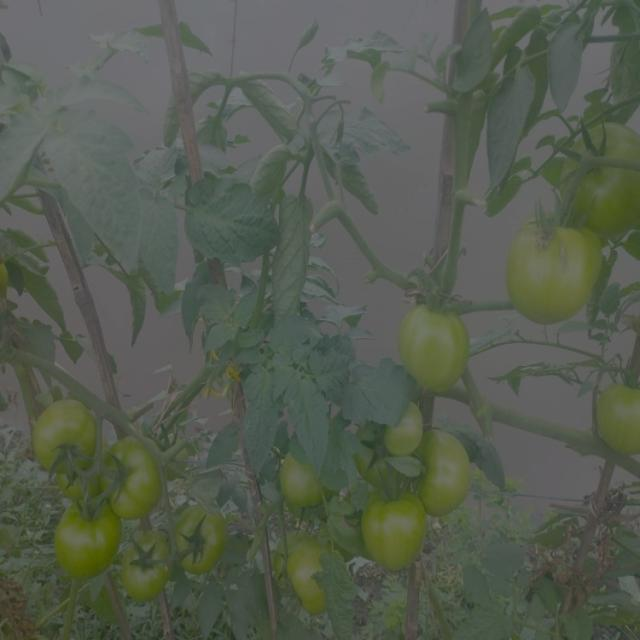tomato: (503, 215, 612, 330), (561, 116, 640, 231), (395, 292, 477, 395), (27, 396, 98, 480), (54, 492, 114, 590), (102, 436, 165, 522), (363, 492, 430, 570), (173, 498, 234, 582), (429, 434, 483, 520), (283, 537, 343, 613), (592, 369, 640, 457), (274, 447, 330, 513), (121, 534, 168, 603), (384, 406, 425, 460)
